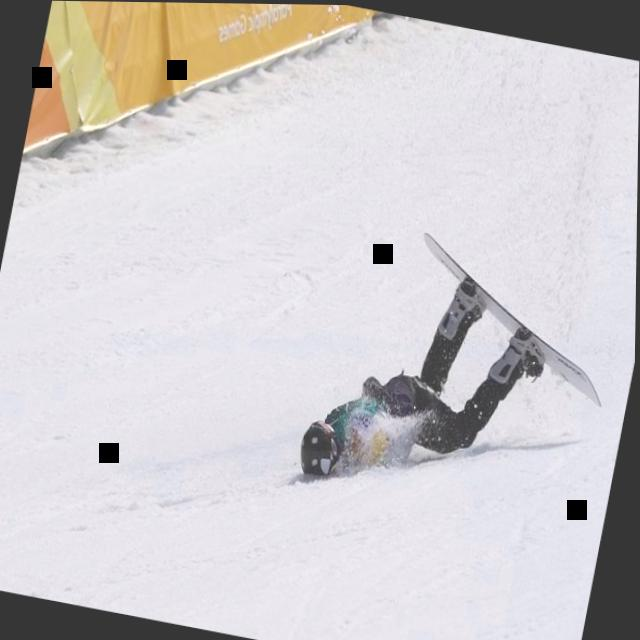Fall-Detected: (268, 226, 582, 532)
